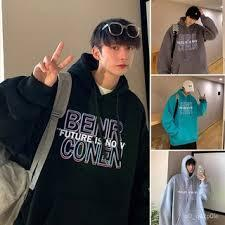sweater: (1, 54, 149, 223), (158, 156, 212, 224), (157, 15, 219, 73), (163, 89, 208, 145)
